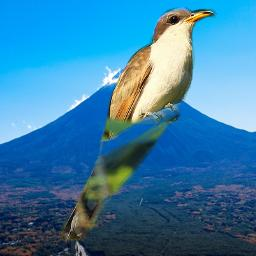Cuckoo: (58, 3, 218, 246)
